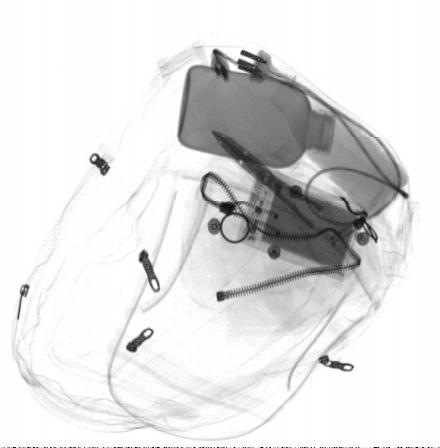Powerbank: (237, 164, 367, 283)
Scissors: (209, 126, 374, 279)
